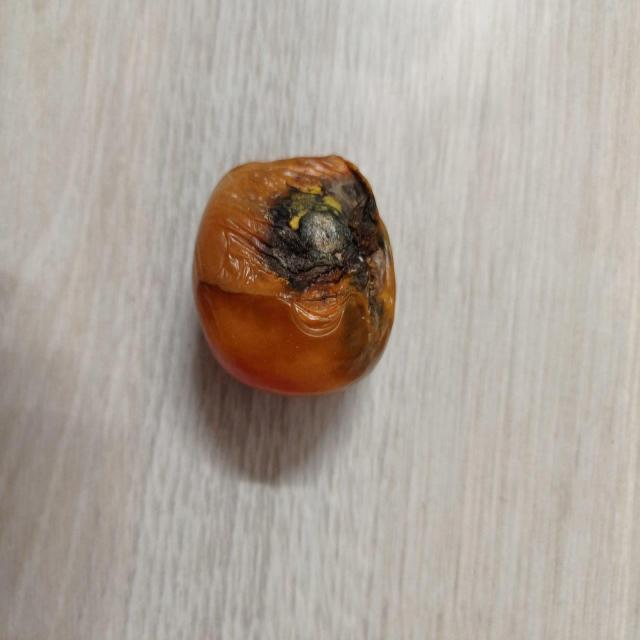Rotten: (190, 153, 397, 394)
